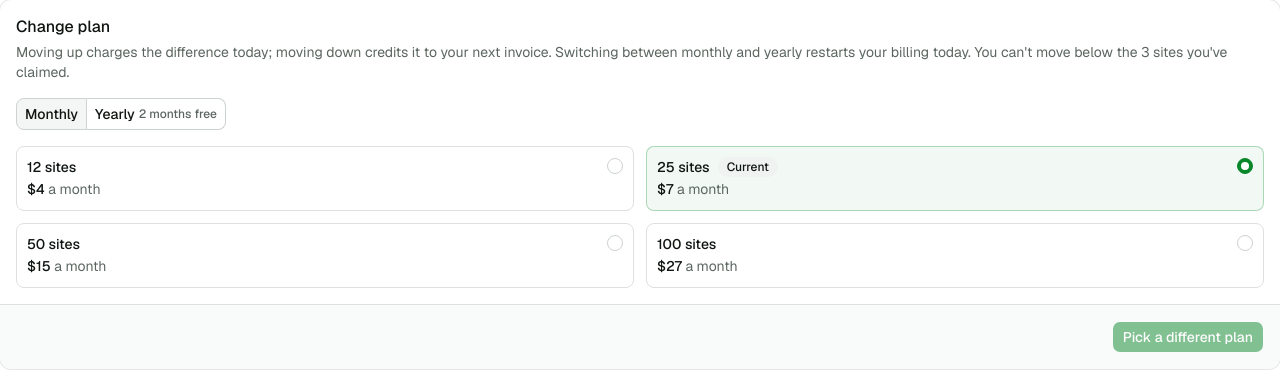
Test case: PlanChooser, a live plan › marks the current plan and waits for a different one
Expected: the button "Pick a different plan" is disabled, [1112,321,1264,353]
Click the button "Yearly 2 months free".
click(157, 114)  # box [87,98,226,130]
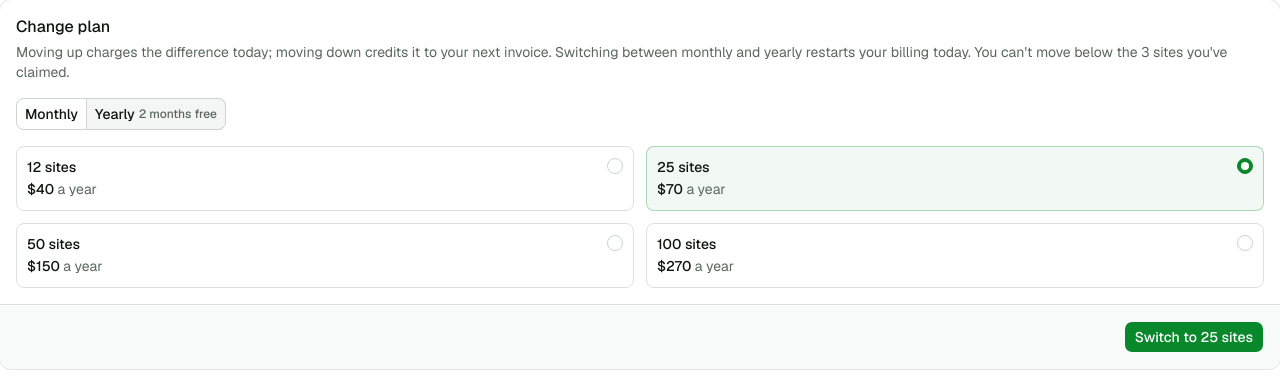
Expected: the button "Switch to 25 sites" is enabled, [1124,321,1264,353]
